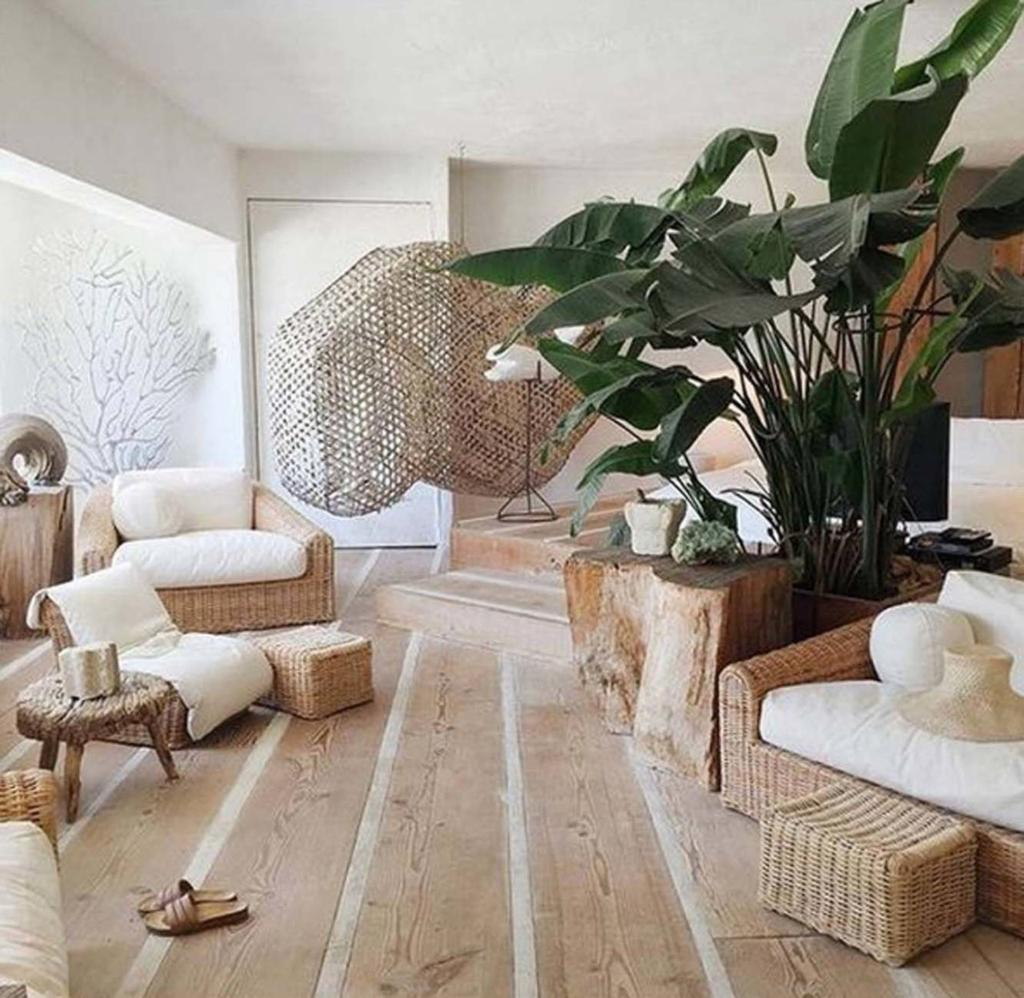kursi: (781, 568, 1024, 940), (71, 465, 353, 635), (31, 573, 269, 751)
meja: (15, 658, 191, 796)
tanaman: (462, 3, 1021, 560)
